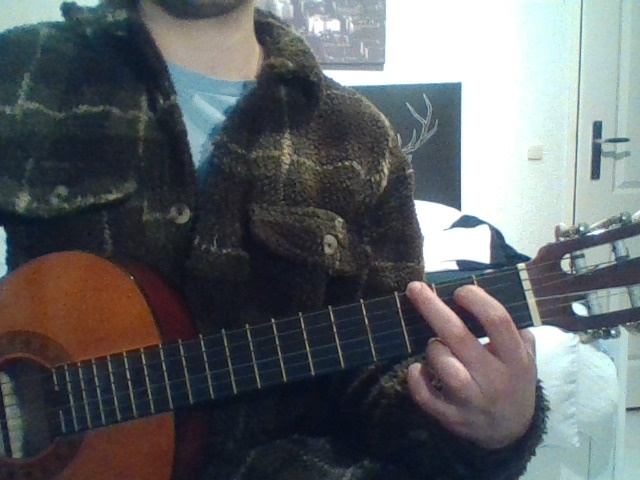G: (385, 262, 573, 469)
